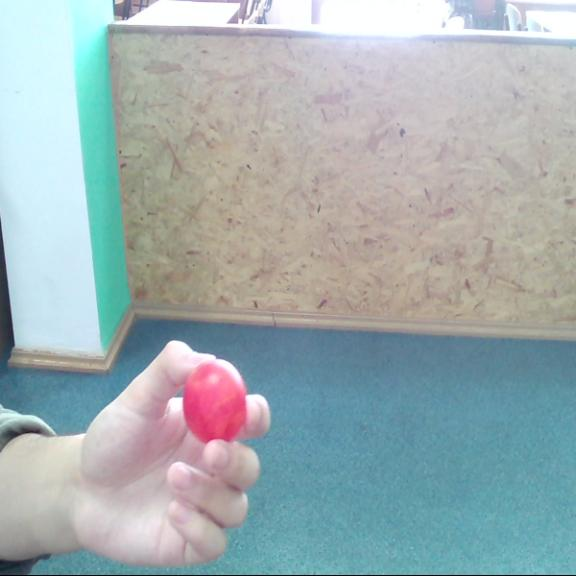ball: (182, 357, 250, 443)
